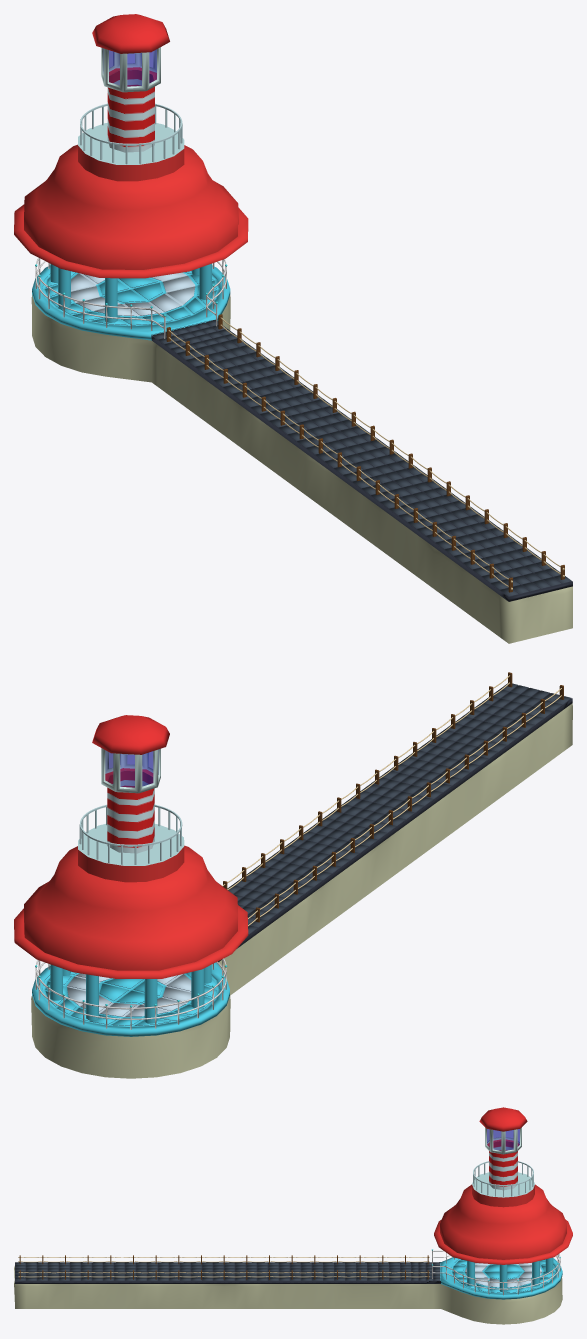
File: muelle.fbx
3 renders of one model, top to bottom at view 1: azimuth 30°, elevation 25°; view 2: azimuth 150°, elevation 25°; view 3: azimuth 270°, elevation 25°, orthographic. The views are drawn at different scales.
Visible parts, largest first — view 1: muelle, faro_techo, muelle_debajo, faro, maderas_puente, pilares, barandal_muelle, faro_barandal; view 2: muelle, faro_techo, muelle_debajo, faro, maderas_puente, pilares, barandal_muelle, faro_barandal, cuerda01.002, cuerda01.001, cuerda01; view 3: muelle_debajo, muelle, faro_techo, faro, pilares, barandal_muelle, cuerda01.003, cuerda01.001, maderas_puente, cuerda01, faro_barandal, cuerda01.002.
Boxes of the visible parts, x1,y1,x2,y2 form: muelle: [32, 265, 572, 601]; faro_techo: [14, 123, 248, 278]; muelle_debajo: [31, 294, 572, 643]; faro: [92, 14, 169, 152]; maderas_puente: [166, 314, 564, 592]; pilares: [50, 263, 211, 322]; barandal_muelle: [35, 257, 227, 338]; faro_barandal: [80, 103, 182, 164]; muelle: [32, 683, 572, 1036]; faro_techo: [14, 824, 248, 978]; muelle_debajo: [31, 703, 572, 1078]; faro: [92, 715, 169, 853]; maderas_puente: [223, 672, 563, 922]; pilares: [50, 964, 211, 1023]; barandal_muelle: [35, 958, 227, 1029]; faro_barandal: [79, 804, 182, 864]; cuerda01.002: [248, 688, 561, 918]; cuerda01.001: [248, 695, 561, 926]; cuerda01: [222, 675, 509, 886]; muelle_debajo: [14, 1266, 562, 1324]; muelle: [15, 1257, 562, 1299]; faro_techo: [434, 1172, 572, 1264]; faro: [479, 1107, 527, 1190]; pilares: [467, 1257, 553, 1292]; barandal_muelle: [432, 1249, 560, 1295]; cuerda01.003: [18, 1276, 429, 1277]; cuerda01.001: [18, 1261, 429, 1262]; maderas_puente: [19, 1255, 428, 1279]; cuerda01: [18, 1272, 429, 1273]; faro_barandal: [473, 1161, 533, 1196]; cuerda01.002: [18, 1257, 429, 1257].
Size of the model in its own units: 6257 by 9302 by 25174.
Materials: 16 (1 with a texture image).
